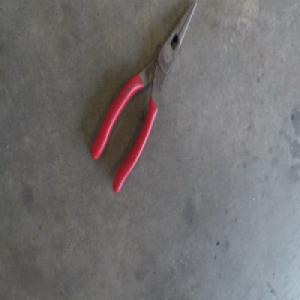Pliers: (90, 1, 197, 193)
